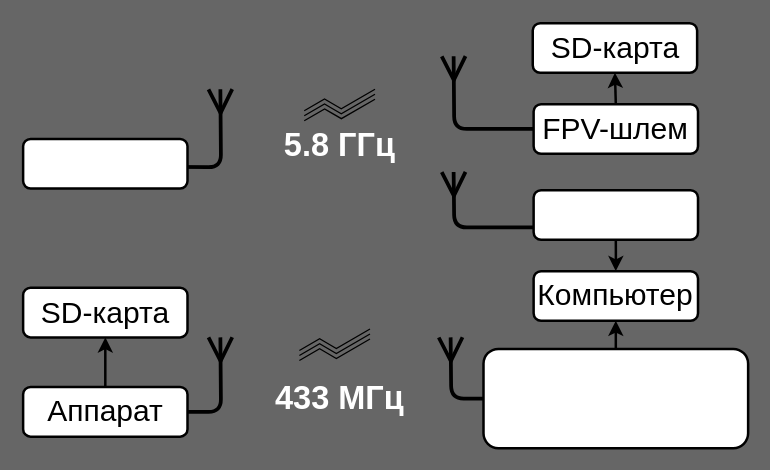
Some shapes in this 770 by 470 pixel diagram are drawn without their labels. Here are the shapes that lost their labels. From the top down, the box of each, then its label:
(21, 137, 188, 189): Камера
(532, 188, 699, 240): Приёмник
(482, 347, 749, 449): Наземная приемная станция
